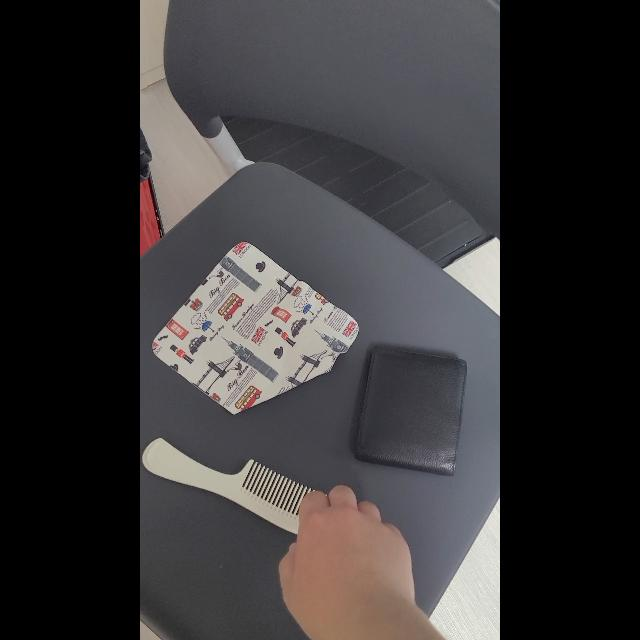COMB: (142, 438, 328, 534)
Glasses cleaning cloth: (153, 242, 360, 414)
WALLET: (355, 346, 467, 476)
